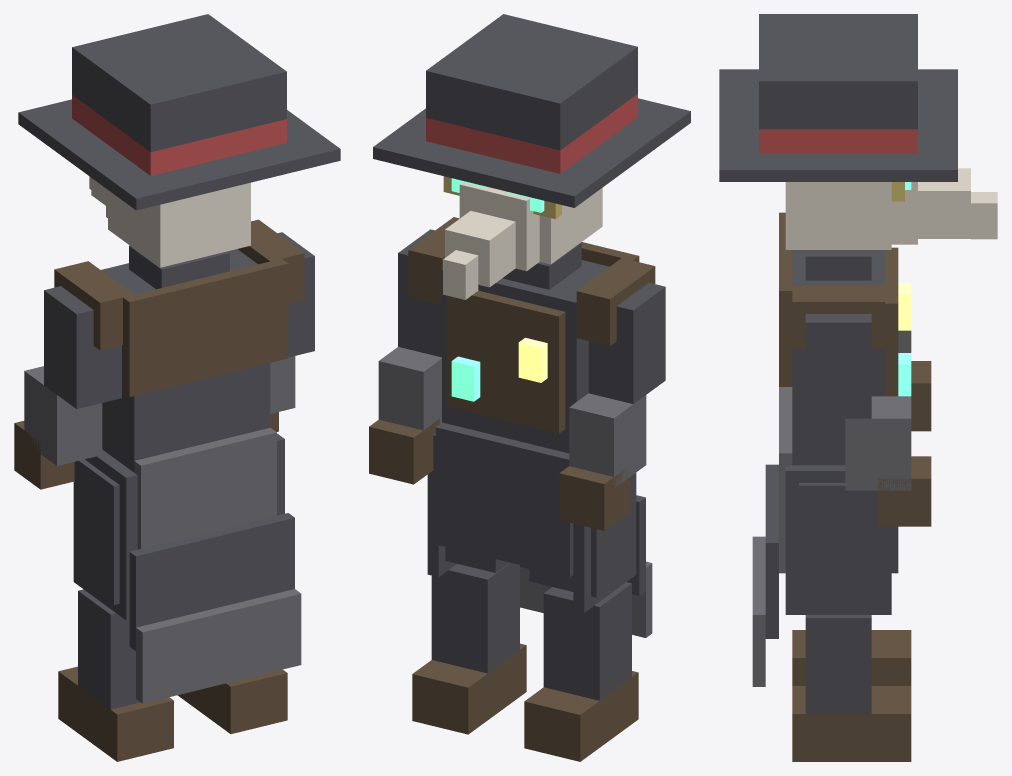
Rendered from voxel_plague_doctor_56px.glb.
3 views of the same model, side by side, from view 1: azimuth 30°, elevation 25°; view 2: azimuth 150°, elevation 25°; view 3: azimuth 270°, elevation 25° (orthographic). The views are drawn at different scales.
Parts seen in each view (by area): view 1: hat_crown, shoulder_cape_back, coat_skirt_back_mid, coat_skirt_back_lower, coat_skirt_back_upper, hat_brim, torso_core, head_core, thigh_right, shin_right, boot_right_heel, hat_band (+15 smaller); view 2: hat_crown, coat_skirt_front, bandolier_strap, hat_brim, shin_right, shin_left, torso_core, forearm_right, hat_band, forearm_left, boot_right_toe, boot_left_toe (+25 smaller); view 3: hat_crown, hat_brim, thigh_left, head_core, shin_left, forearm_left, boot_left_heel, coat_skirt_left_flare, torso_core, hat_band, shoulder_left, shoulder_cape_left (+18 smaller).
Part boxes in pixels (<box>): hat_crown: <box>72,14,286,151</box>; shoulder_cape_back: <box>123,258,288,397</box>; coat_skirt_back_mid: <box>129,513,294,650</box>; coat_skirt_back_lower: <box>136,589,301,703</box>; coat_skirt_back_upper: <box>134,427,276,549</box>; hat_brim: <box>18,99,340,210</box>; torso_core: <box>101,249,270,448</box>; head_core: <box>108,182,250,267</box>; thigh_right: <box>74,459,119,604</box>; shin_right: <box>78,589,140,709</box>; boot_right_heel: <box>71,679,173,761</box>; hat_band: <box>72,95,286,175</box>; hat_crown: <box>426,14,637,150</box>; coat_skirt_front: <box>435,422,573,576</box>; bandolier_strap: <box>446,290,565,433</box>; hat_brim: <box>373,98,690,207</box>; shin_right: <box>543,582,631,700</box>; shin_left: <box>431,562,519,673</box>; torso_core: <box>442,260,609,441</box>; forearm_right: <box>569,393,646,487</box>; hat_band: <box>426,94,637,173</box>; forearm_left: <box>378,347,441,434</box>; boot_right_toe: <box>524,692,593,761</box>; boot_left_toe: <box>412,664,481,734</box>; hat_crown: <box>759,14,917,129</box>; hat_brim: <box>719,69,957,181</box>; thigh_left: <box>799,483,878,605</box>; head_core: <box>785,182,891,249</box>; shin_left: <box>805,615,871,713</box>; forearm_left: <box>845,396,911,490</box>; boot_left_heel: <box>792,686,884,761</box>; coat_skirt_left_flare: <box>785,465,891,614</box>; torso_core: <box>792,250,884,441</box>; hat_band: <box>759,129,917,153</box>; shoulder_left: <box>805,314,871,370</box>; shoulder_cape_left: <box>792,285,884,349</box>.
Size of the model in its own units: 0.6563 by 1.75 by 0.6563.
